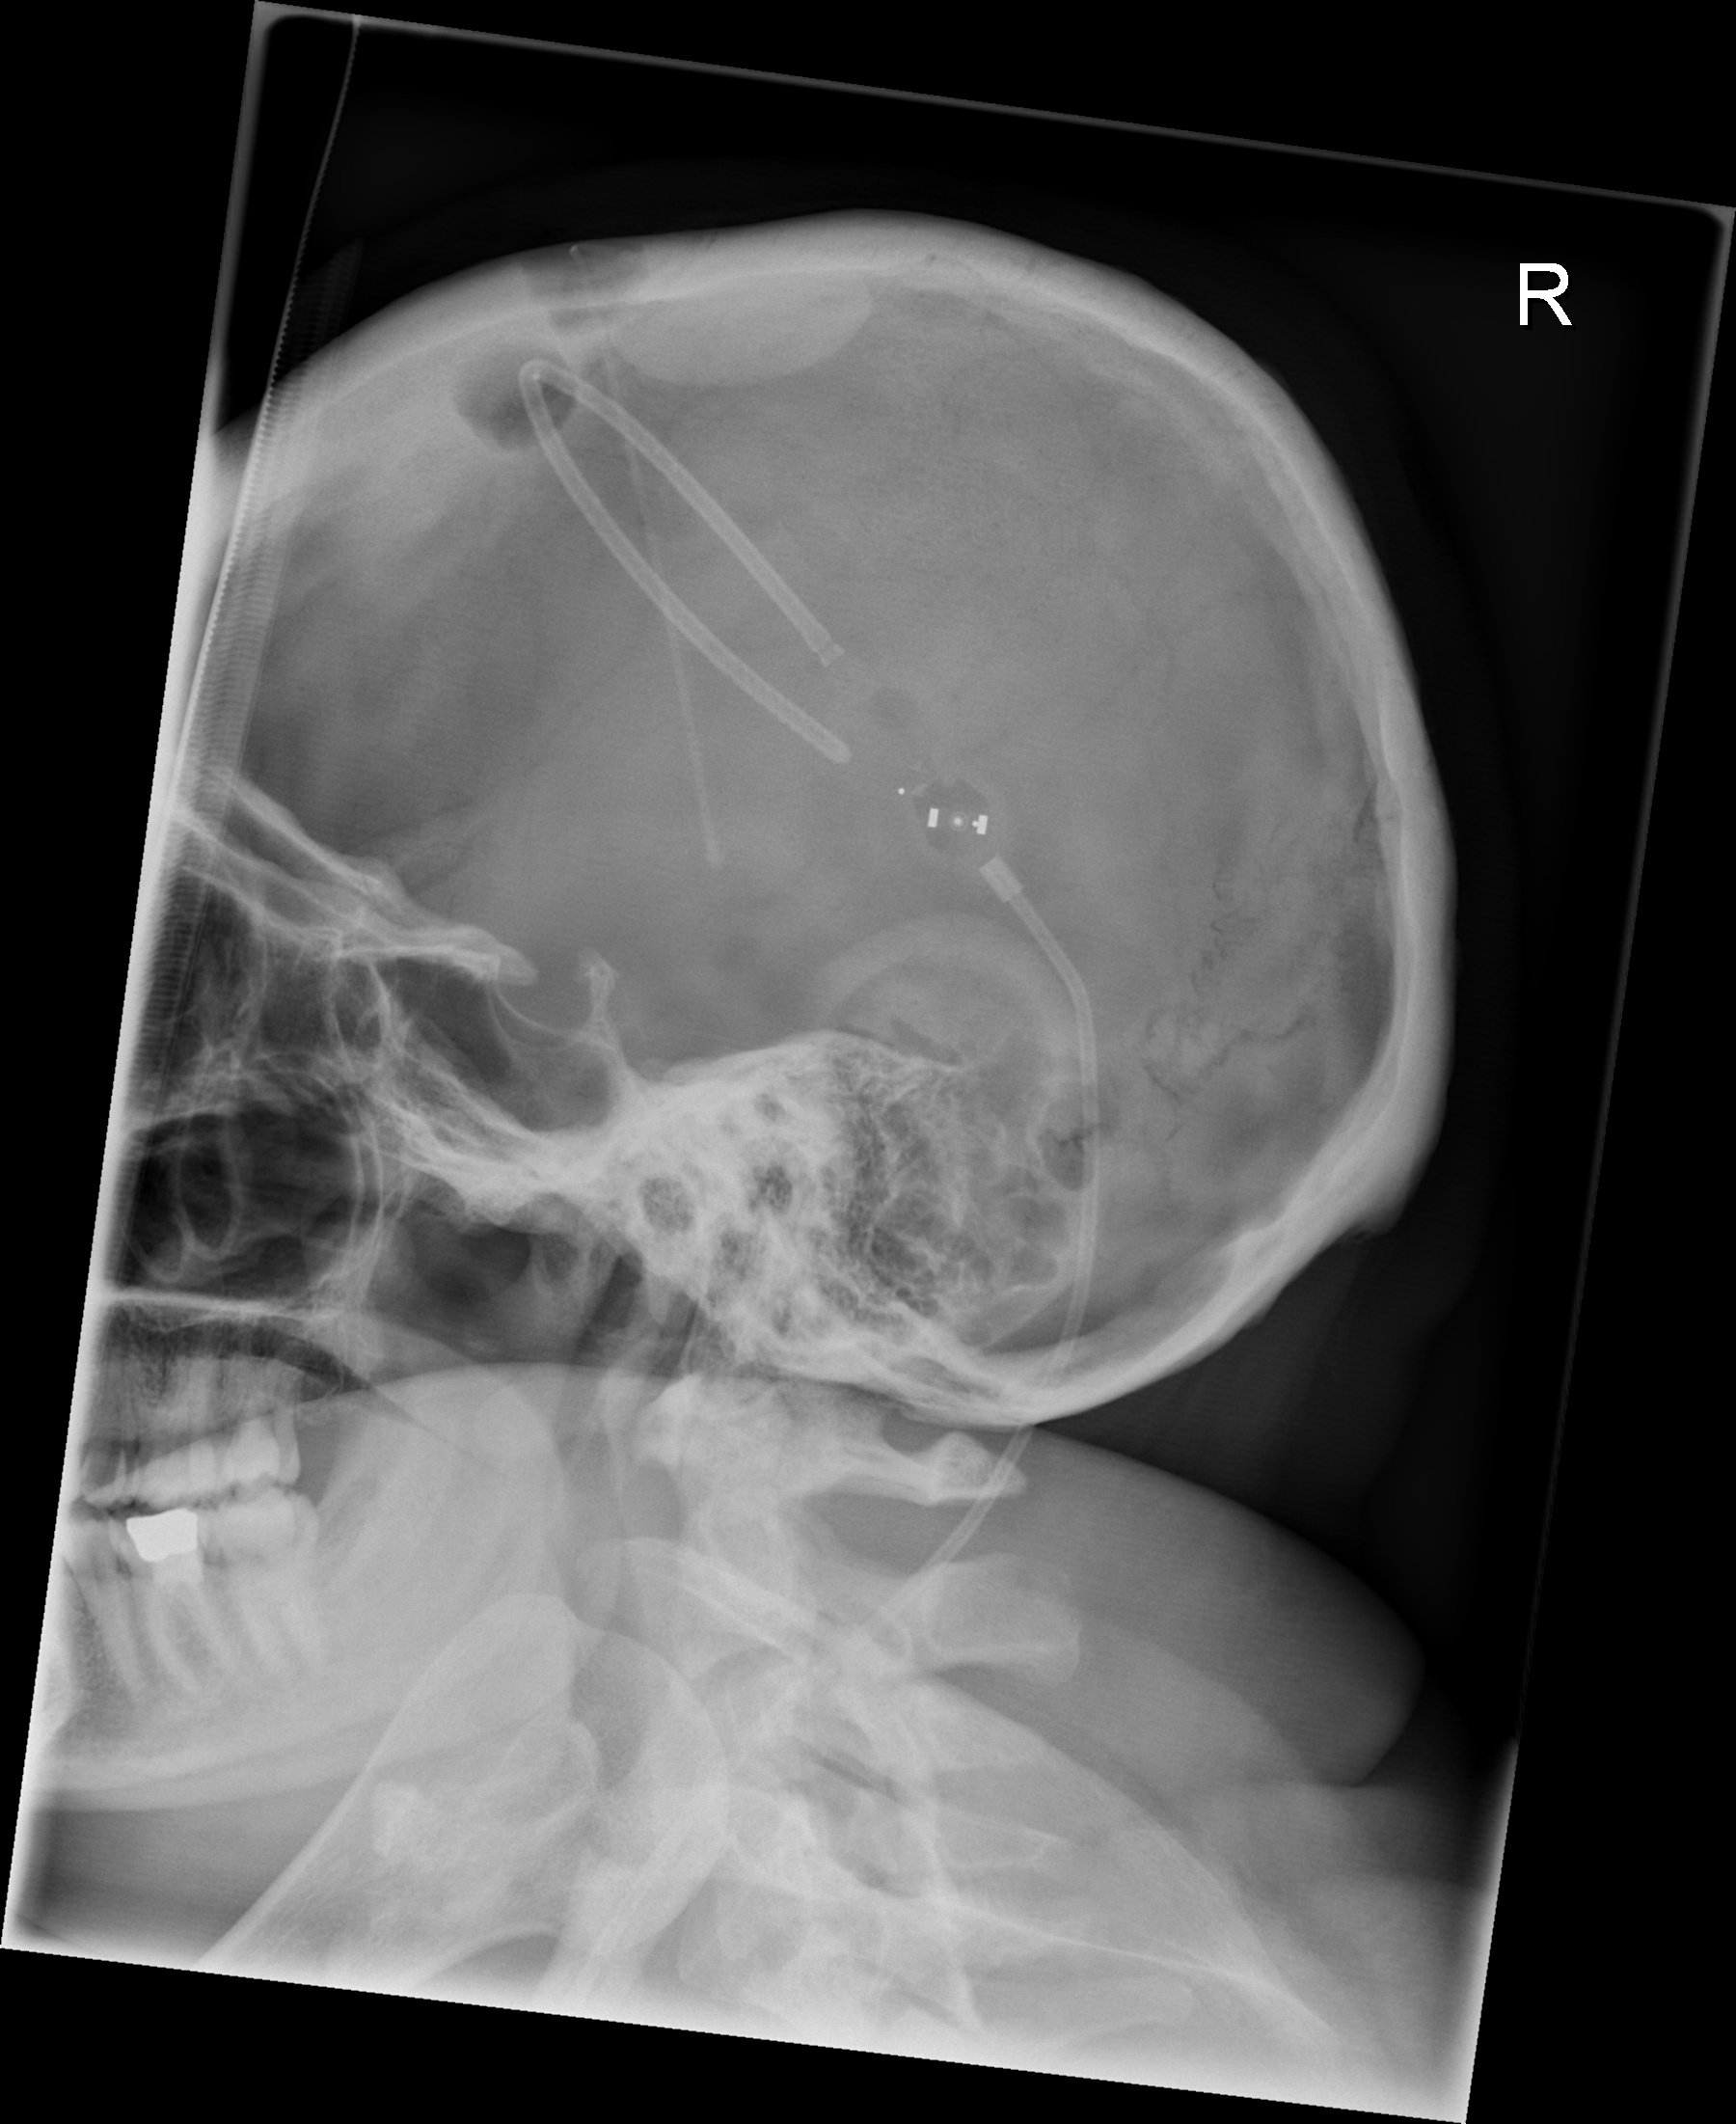Codman Certas: (887, 752, 1021, 879)
